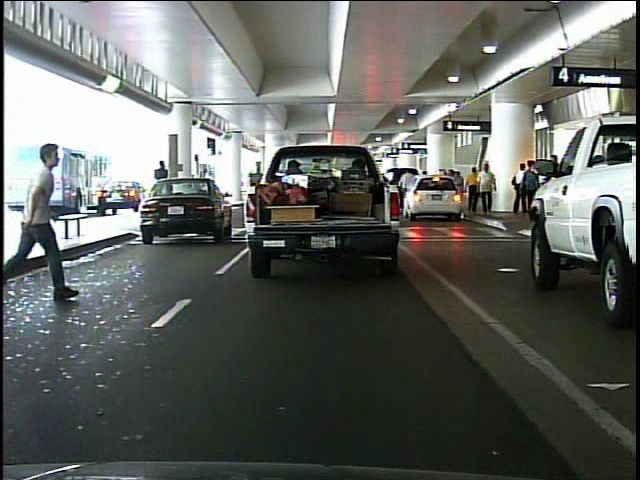person: (3, 127, 86, 314), (149, 156, 175, 216), (471, 156, 495, 219), (511, 156, 532, 216), (462, 160, 481, 220)
